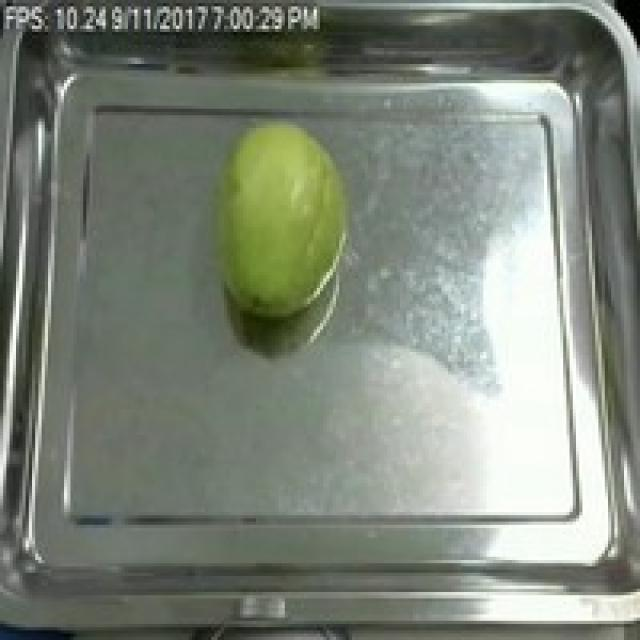Fruit: (192, 108, 362, 330)
